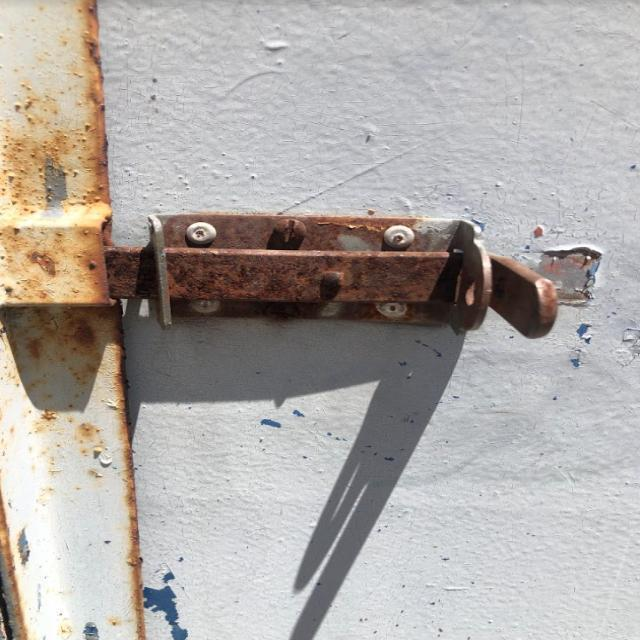Corrosion: (1, 0, 565, 637), (0, 1, 146, 638), (104, 210, 558, 339)
